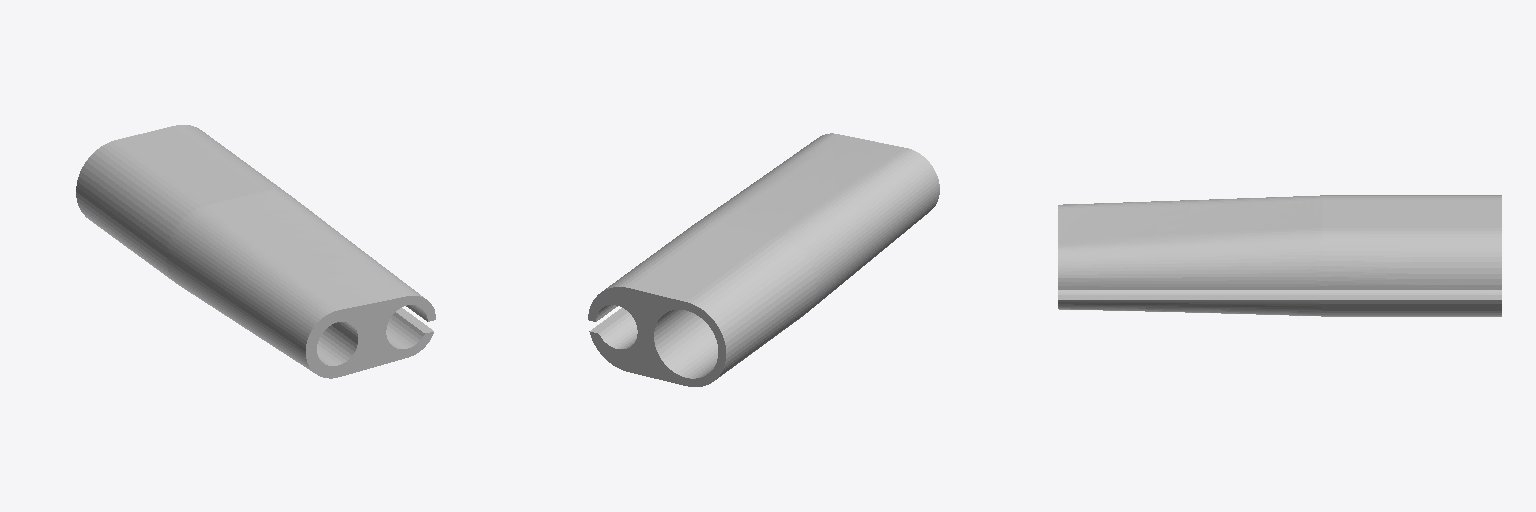
The model's file is [TPU] Adapter 6mm to 4mm.obj.
3 views of the same model, side by side, from view 1: azimuth 30°, elevation 25°; view 2: azimuth 150°, elevation 25°; view 3: azimuth 270°, elevation 25° (orthographic).
Size of the model in its own units: 13.35 by 7.76 by 37.